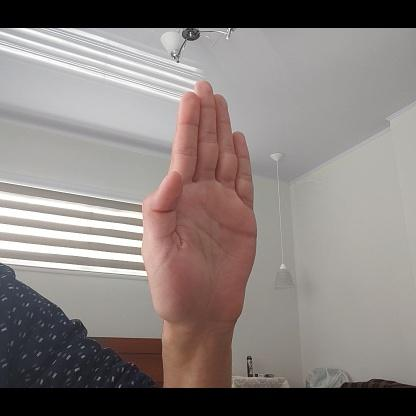B: (140, 79, 258, 333)
